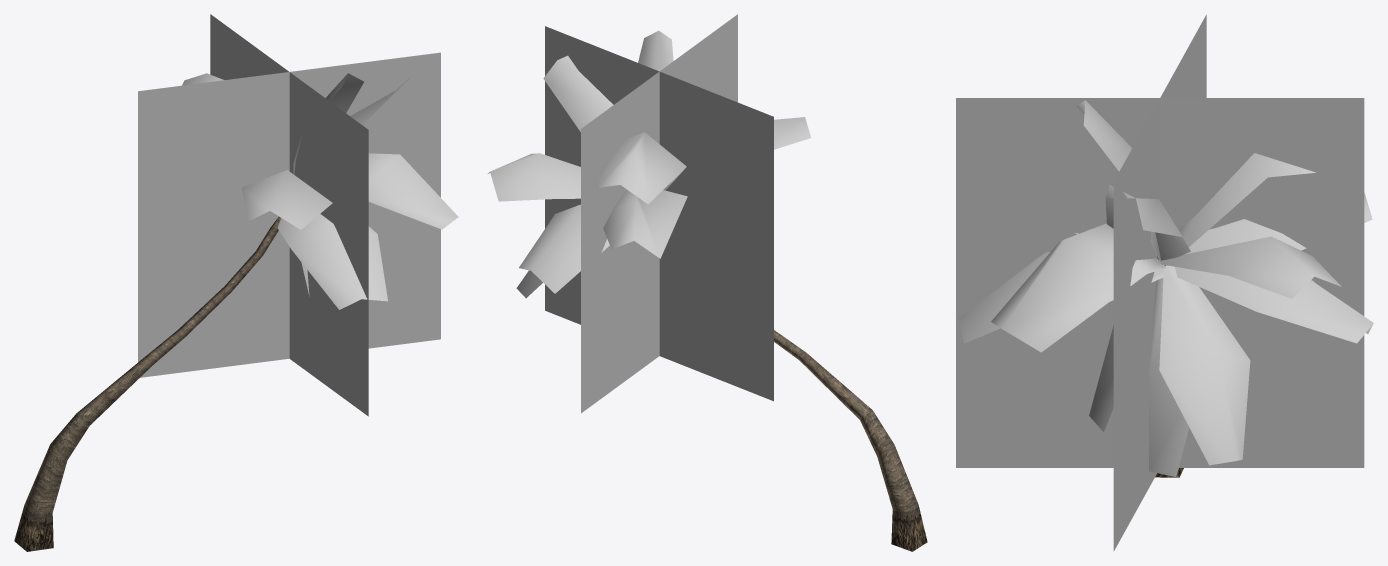
Rendered from nature_palm_coconat_lod01.FBX.
3 views of the same model, side by side, from view 1: azimuth 30°, elevation 25°; view 2: azimuth 150°, elevation 25°; view 3: azimuth 270°, elevation 25° (orthographic). The views are drawn at different scales.
Visible parts, largest first — view 1: nature_palm_coconat_leaves_lod01, nature_palm_coconat_bark_lod01; view 2: nature_palm_coconat_leaves_lod01, nature_palm_coconat_bark_lod01; view 3: nature_palm_coconat_leaves_lod01.
Part boxes in pixels (x1,y1,x2,y2): nature_palm_coconat_leaves_lod01: (138, 14, 458, 416); nature_palm_coconat_bark_lod01: (14, 216, 280, 551); nature_palm_coconat_leaves_lod01: (488, 14, 810, 413); nature_palm_coconat_bark_lod01: (673, 229, 927, 551); nature_palm_coconat_leaves_lod01: (956, 14, 1373, 551).
Size of the model in its own units: 1893 by 1924 by 1329.
